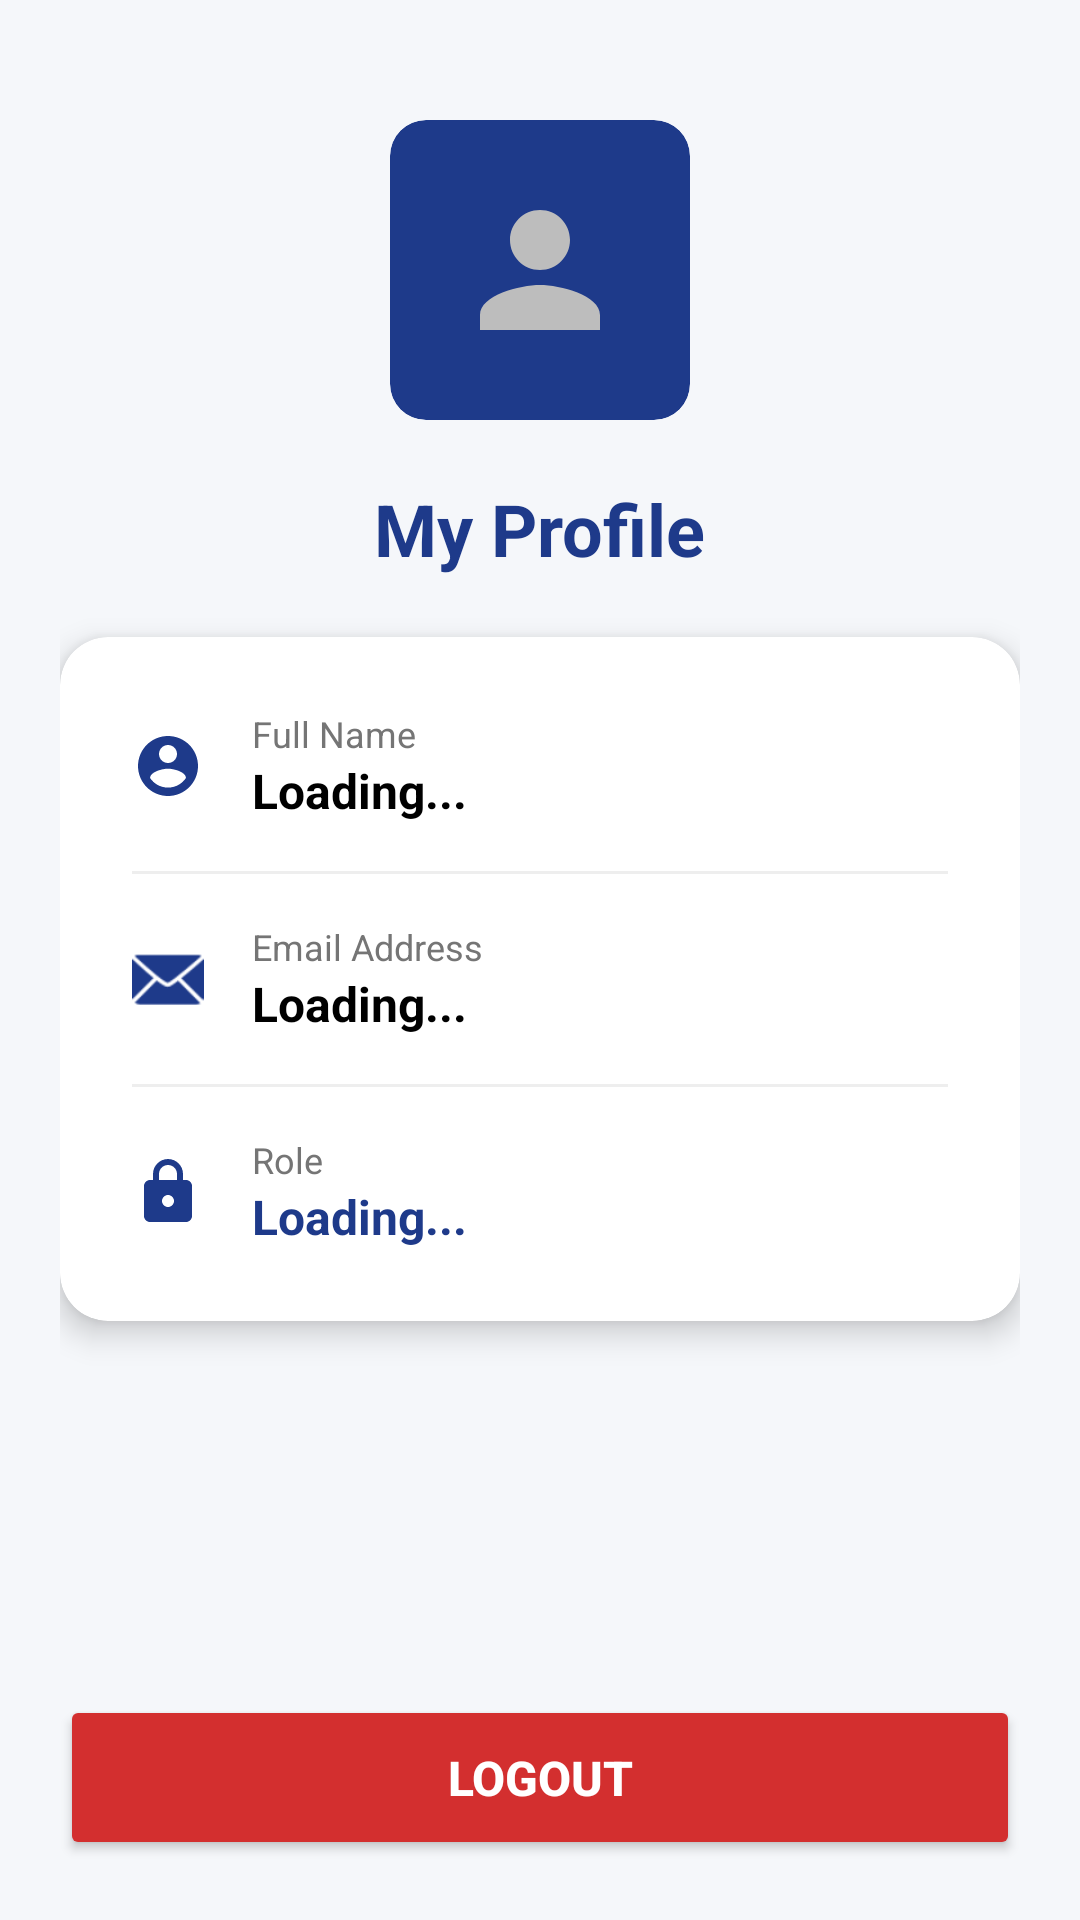

Named icons in this screenshot (1080*1920) and their centers, [x,y]:
account: [168,766]
lock: [168,1190]
